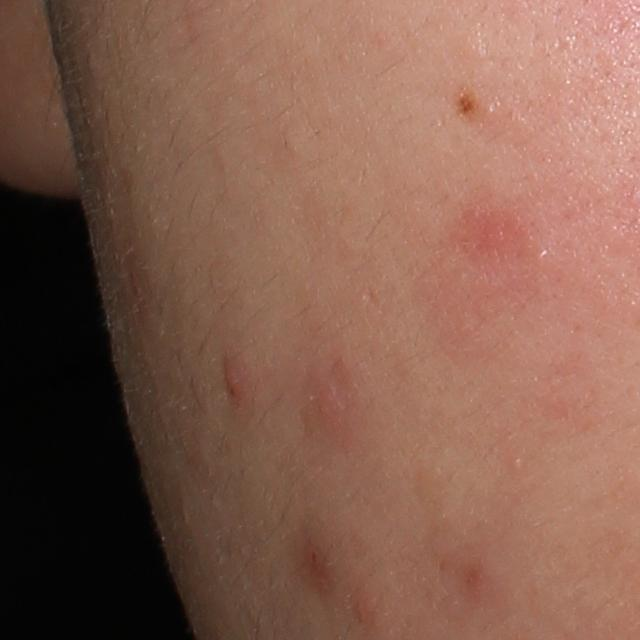comedo: (508, 456, 526, 473)
nevus: (450, 89, 479, 121)
